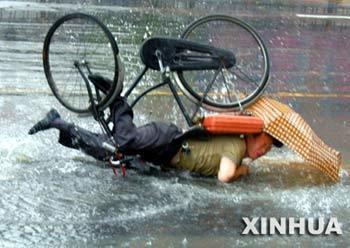Fall-Detected: (26, 72, 288, 193)
